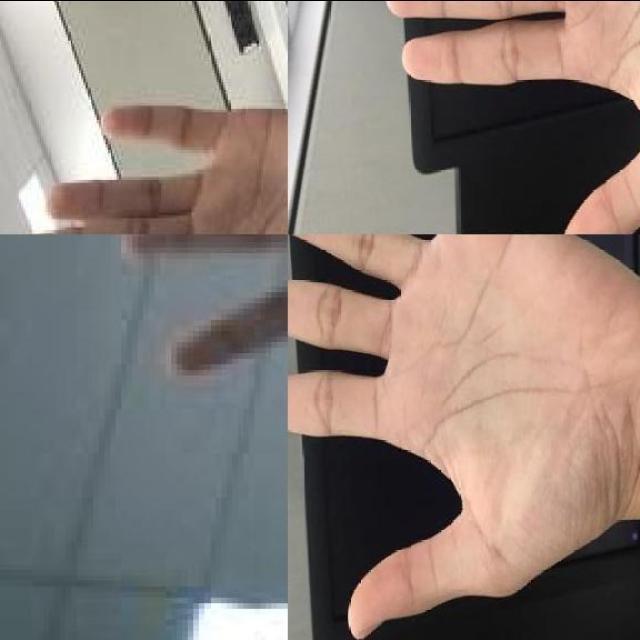hand: (288, 233, 640, 639), (386, 0, 640, 234), (14, 74, 288, 234), (121, 233, 288, 458)
